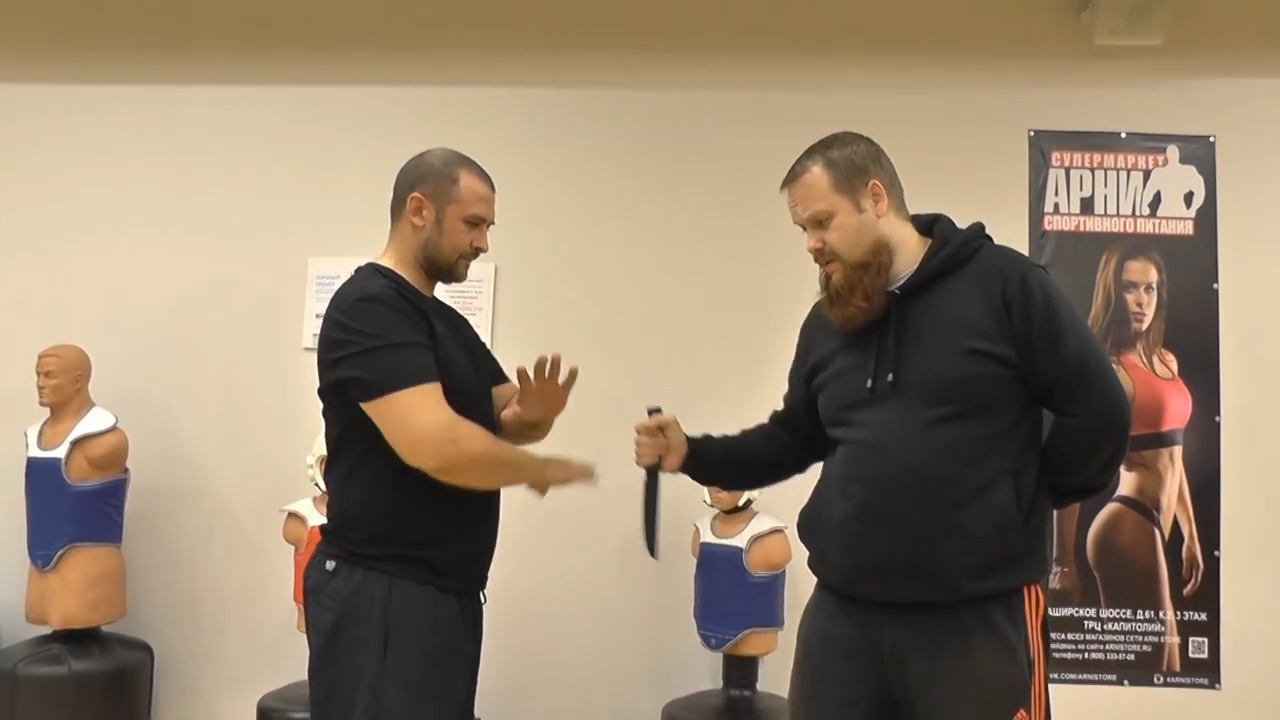knife: (631, 403, 677, 568)
